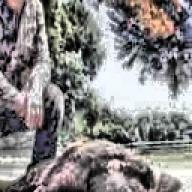boar: (0, 136, 182, 192)
